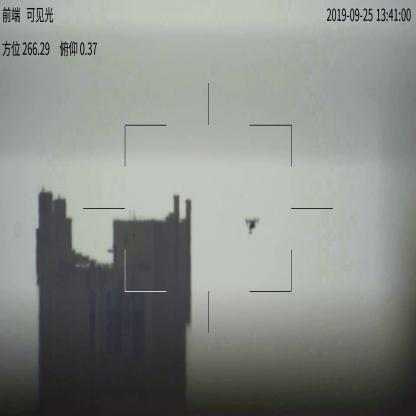uav: (244, 214, 261, 235)
